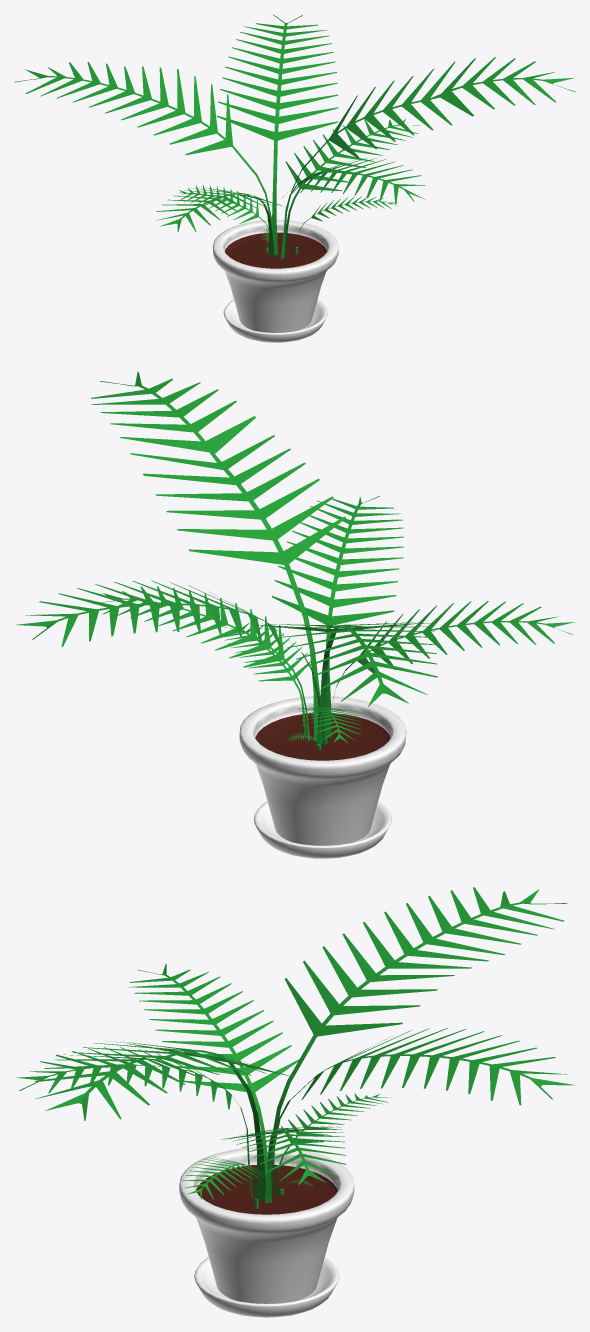
The model's file is plants_1.fbx.
3 views of the same model, one above another, from view 1: azimuth 30°, elevation 25°; view 2: azimuth 150°, elevation 25°; view 3: azimuth 270°, elevation 25° (orthographic). The views are drawn at different scales.
Visible parts, largest first — view 1: Pot; view 2: Pot; view 3: Pot.
Part boxes in pixels (x1=…): Pot: x1=14, y1=14, x2=575, y2=342; Pot: x1=16, y1=371, x2=574, y2=858; Pot: x1=16, y1=887, x2=575, y2=1317.
Bounding box in the file's own units: 373 × 219 × 328.
Materials: 3 (3 with a texture image).
